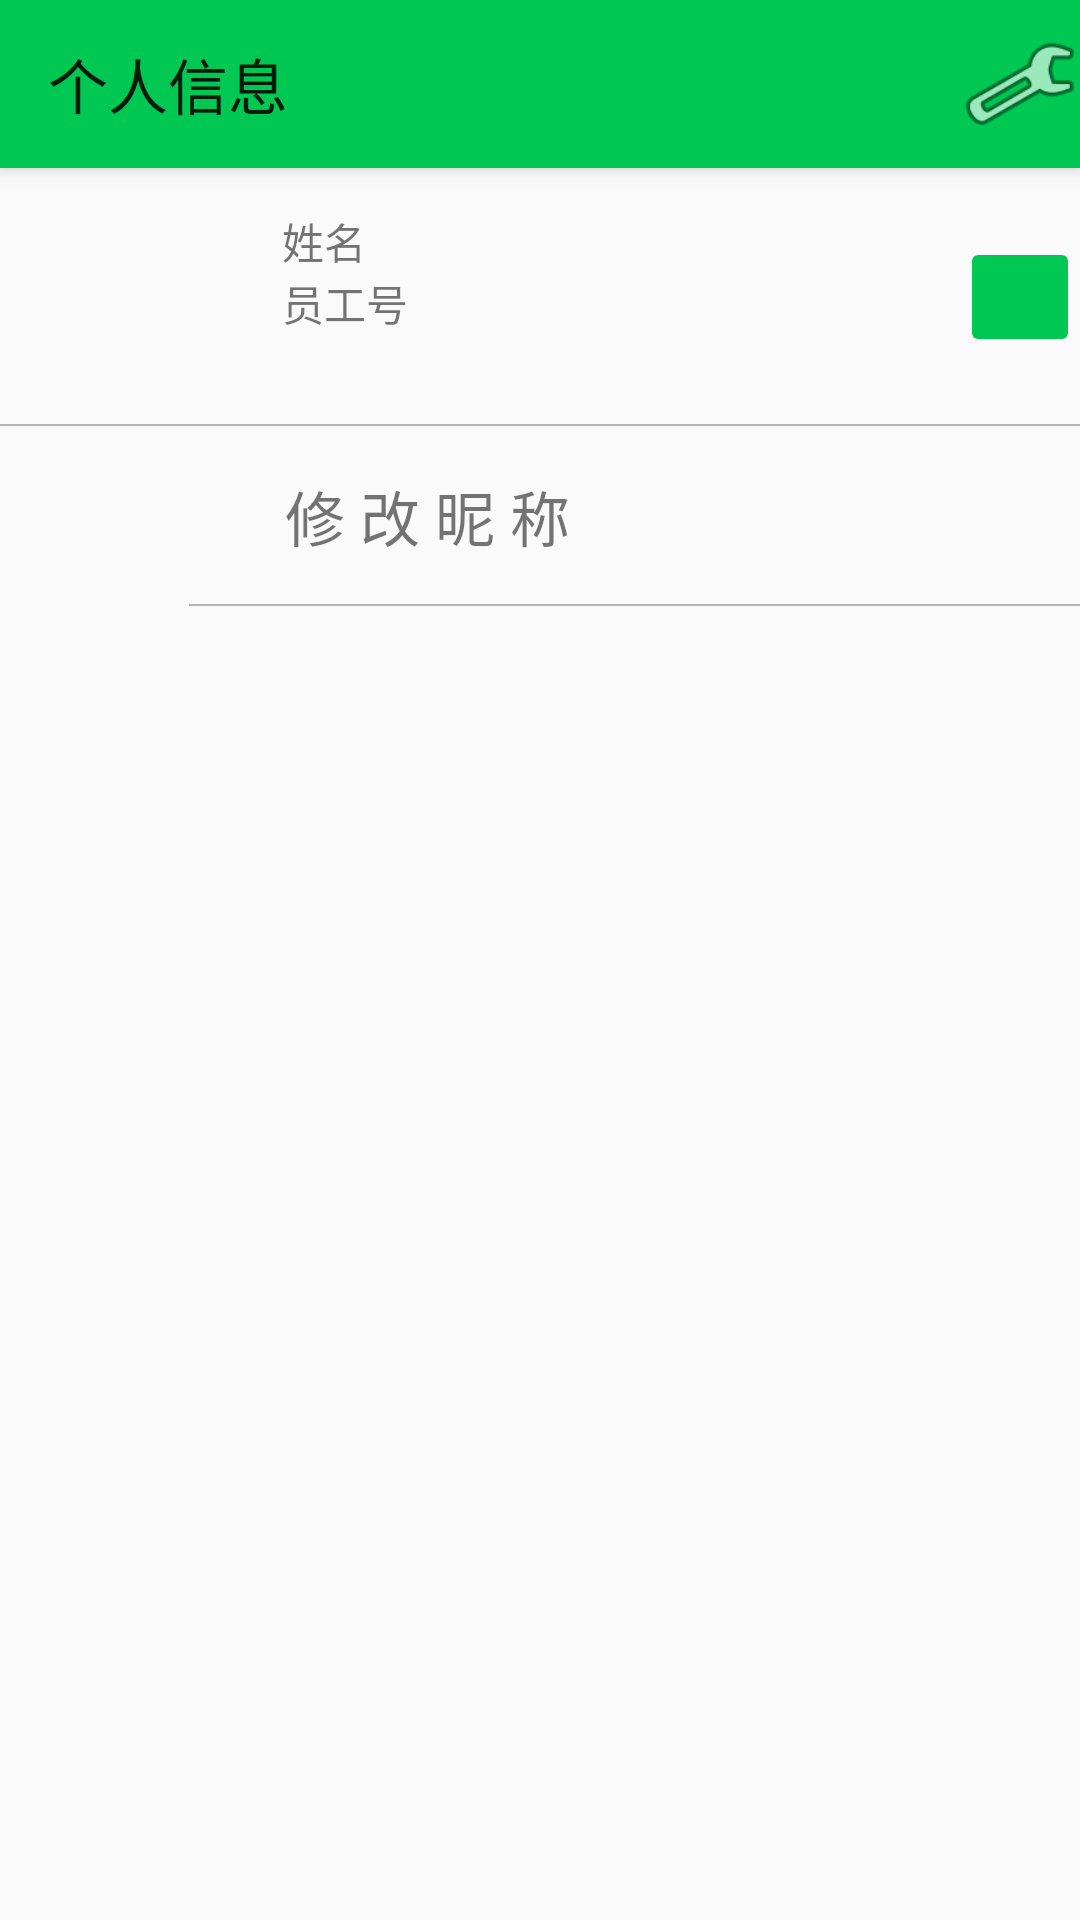

Point at icon controls on the screen. Image size 1080w x 1920h, points as (x,y).
manage: (1020,84)
